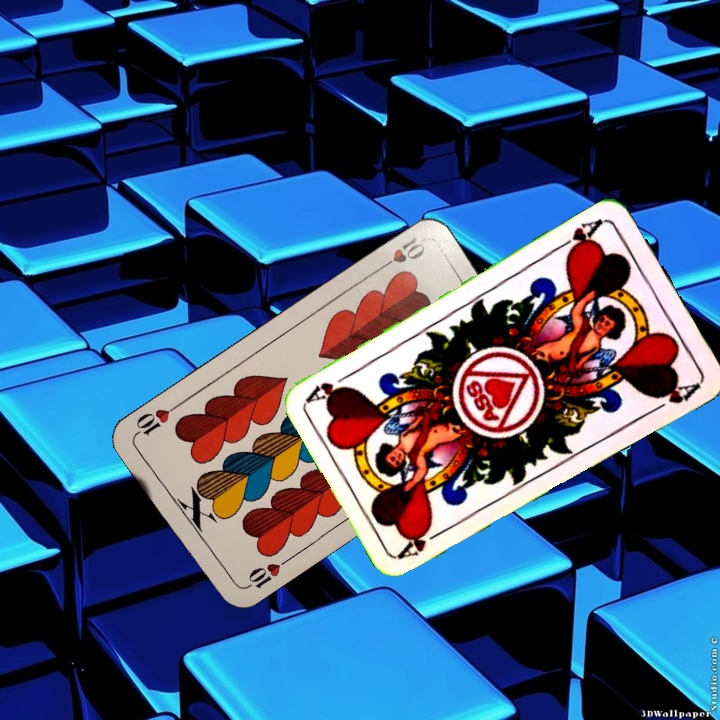H10: (374, 232, 428, 274), (238, 555, 291, 593)
HA: (553, 214, 607, 259), (395, 520, 450, 561)
